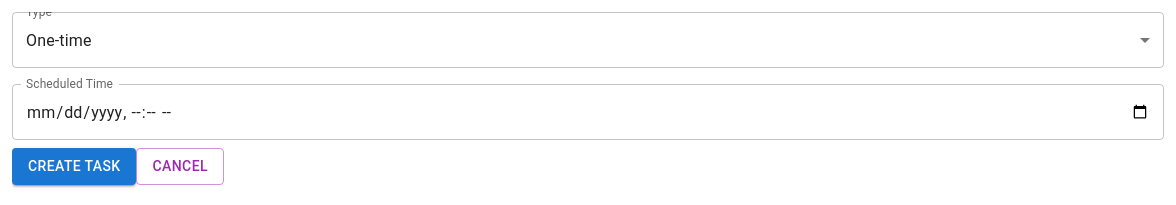
Test: TaskForm Component › renders recurring task form correctly
Click the dropdown at {"x": 59, "y": 40}, box x1=26 y1=30 x2=92 y2=50
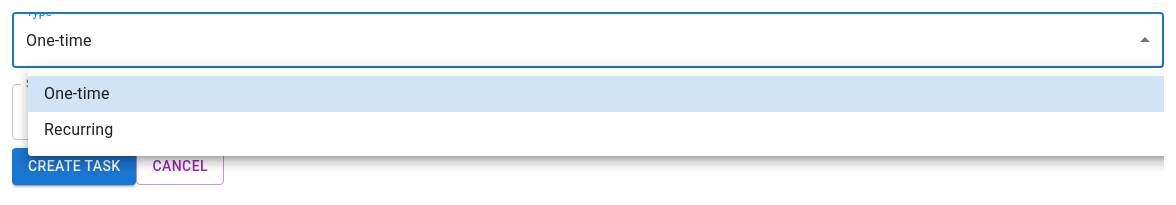
Click the option "Recurring" at {"x": 79, "y": 130}, box x1=44 y1=120 x2=114 y2=139
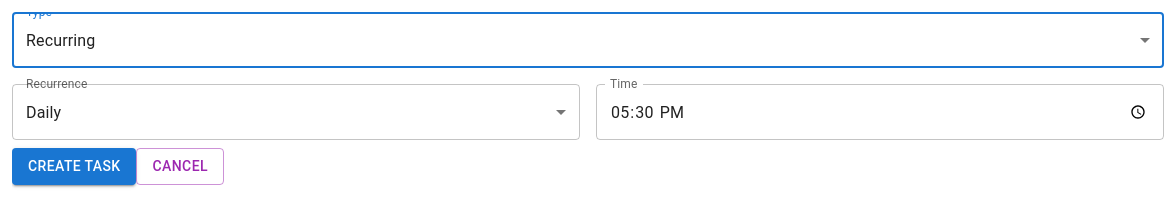
Check: the time field labelled "Time" is shown, box x1=596 y1=84 x2=1164 y2=140
Check: the dropdown named "Recurrence" is shown, box x1=26 y1=102 x2=61 y2=122
